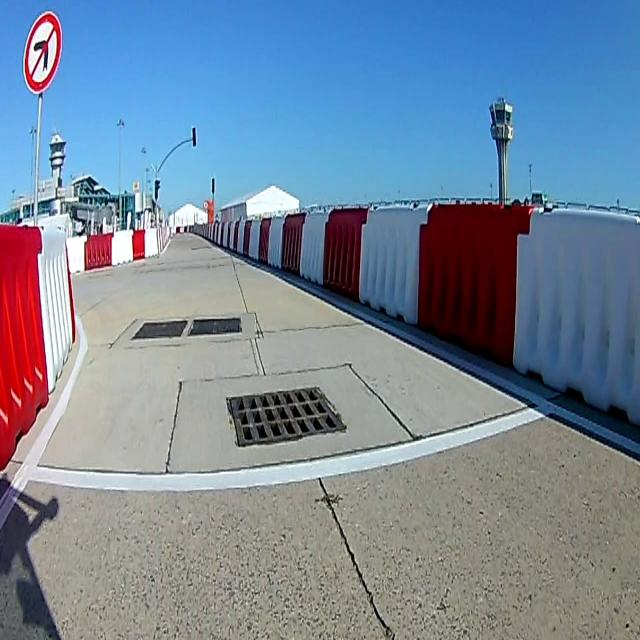soladonulmez: (24, 14, 62, 93)
